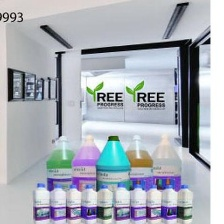cleaning_solution: (142, 131, 185, 202), (68, 131, 109, 204), (93, 134, 132, 205), (44, 135, 82, 203), (119, 132, 155, 203), (29, 181, 51, 224), (174, 180, 195, 224), (126, 182, 148, 224), (46, 182, 68, 224), (77, 182, 99, 223), (110, 181, 131, 222), (63, 181, 82, 224), (95, 182, 114, 223), (160, 182, 178, 223), (144, 183, 162, 223)
